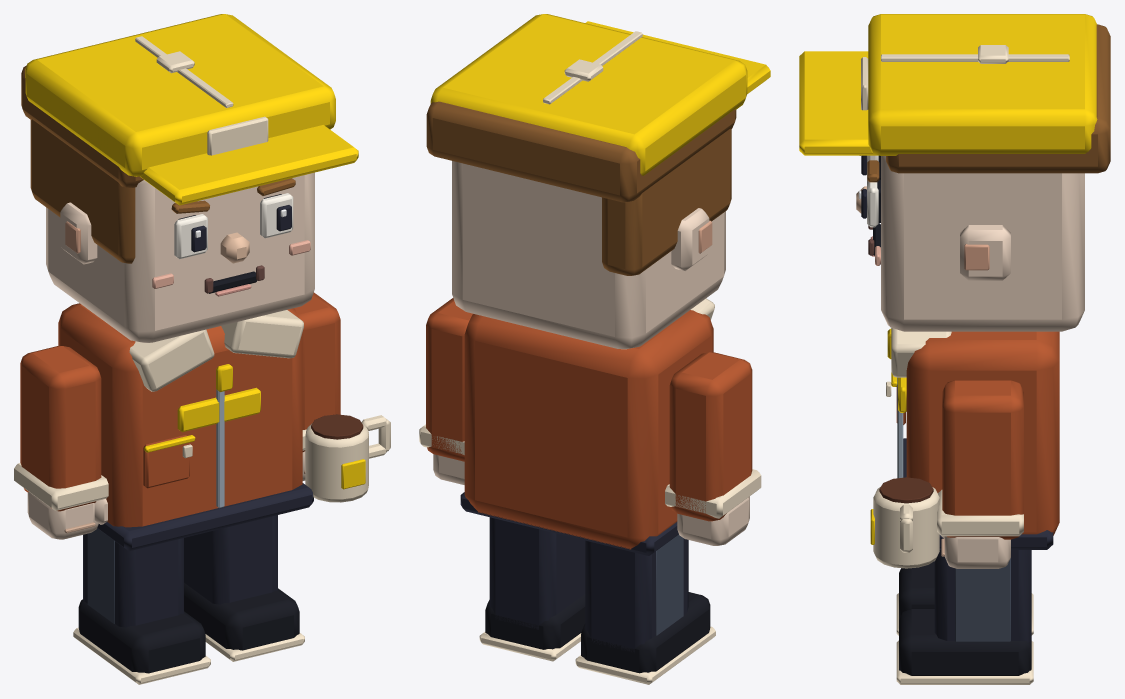
The model's file is pablo.glb.
3 views of the same model, side by side, from view 1: azimuth 30°, elevation 25°; view 2: azimuth 150°, elevation 25°; view 3: azimuth 270°, elevation 25° (orthographic). The views are drawn at different scales.
Visible parts, largest first — view 1: Cap, Jacket, Face, Arm_L_sleeve, CapBrim, HairSide, Leg_R_trouser, Leg_L_trouser, Leg_L_shoe, Leg_R_shoe, Arm_R_sleeve, JacketHem (+20 smaller); view 2: Jacket, Face, Cap, Hair, Arm_L_sleeve, HairSide, Leg_R_trouser, Leg_L_trouser, Arm_R_sleeve, Leg_L_shoe, Leg_R_shoe, TrouserSeam (+11 smaller); view 3: Cap, Face, Jacket, Arm_R_sleeve, CapBrim, Hair, Leg_R_shoe, TrouserSeam.001, Mug, Leg_R_trouser, Ear.001, Arm_R_hand (+11 smaller).
Part boxes in pixels (box(x1,y1,x2,y2)): Cap: box(25, 14, 335, 176); Jacket: box(58, 303, 302, 527); Face: box(46, 172, 314, 342); Arm_L_sleeve: box(20, 346, 101, 511); CapBrim: box(140, 125, 358, 205); HairSide: box(30, 119, 135, 263); Leg_R_trouser: box(184, 515, 277, 604); Leg_L_trouser: box(83, 533, 183, 627); Leg_L_shoe: box(78, 599, 205, 673); Leg_R_shoe: box(184, 583, 299, 650); Arm_R_sleeve: box(294, 292, 340, 451); JacketHem: box(97, 483, 313, 551); Jacket: box(464, 310, 713, 549); Face: box(452, 161, 725, 349); Cap: box(430, 14, 747, 175); Hair: box(426, 101, 736, 202); Arm_L_sleeve: box(669, 352, 752, 521); HairSide: box(602, 129, 731, 275); Leg_R_trouser: box(489, 517, 585, 629); Leg_L_trouser: box(585, 538, 688, 652); Arm_R_sleeve: box(426, 298, 473, 461); Leg_L_shoe: box(581, 592, 710, 673); Leg_R_shoe: box(485, 594, 585, 649); TrouserSeam: box(656, 534, 683, 635); Cap: box(868, 14, 1097, 155); Face: box(881, 156, 1084, 331); Jacket: box(906, 331, 1059, 535); Arm_R_sleeve: box(942, 380, 1023, 539); CapBrim: box(799, 51, 878, 155); Hair: box(886, 24, 1110, 173); Leg_R_shoe: box(899, 608, 1031, 675); TrouserSeam.001: box(955, 558, 1010, 641); Mug: box(873, 487, 939, 568); Leg_R_trouser: box(934, 550, 1031, 643); Ear.001: box(960, 225, 1010, 280); Arm_R_hand: box(944, 536, 1010, 568).
Size of the model in its own units: 0.7505 by 1.29 by 0.61.
